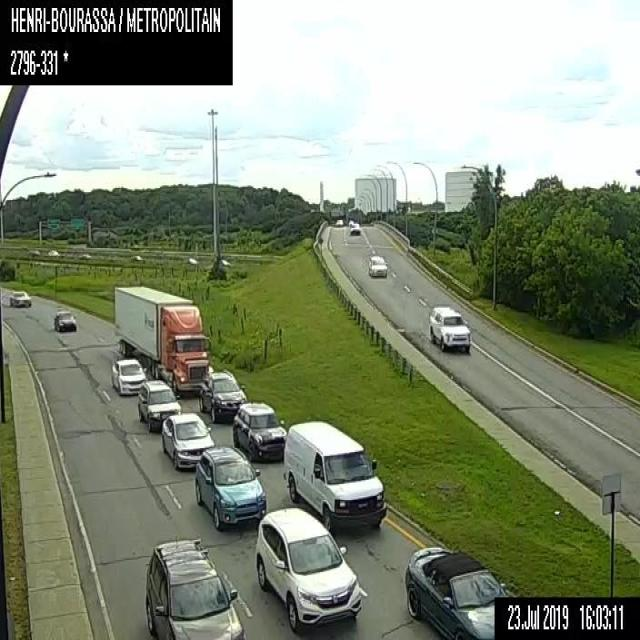vehicle: (254, 506, 360, 631), (282, 420, 386, 533), (144, 536, 247, 639), (402, 545, 514, 639), (112, 286, 208, 394), (194, 446, 266, 527), (232, 401, 286, 461), (160, 412, 213, 469), (199, 371, 246, 422), (138, 379, 180, 431), (428, 304, 470, 349), (112, 357, 146, 394), (52, 308, 76, 331), (368, 254, 388, 278), (7, 290, 31, 306), (348, 221, 360, 235), (47, 249, 57, 255), (221, 258, 229, 265), (335, 218, 343, 225), (130, 254, 141, 259), (29, 249, 39, 254), (78, 253, 90, 257), (188, 257, 195, 263)
